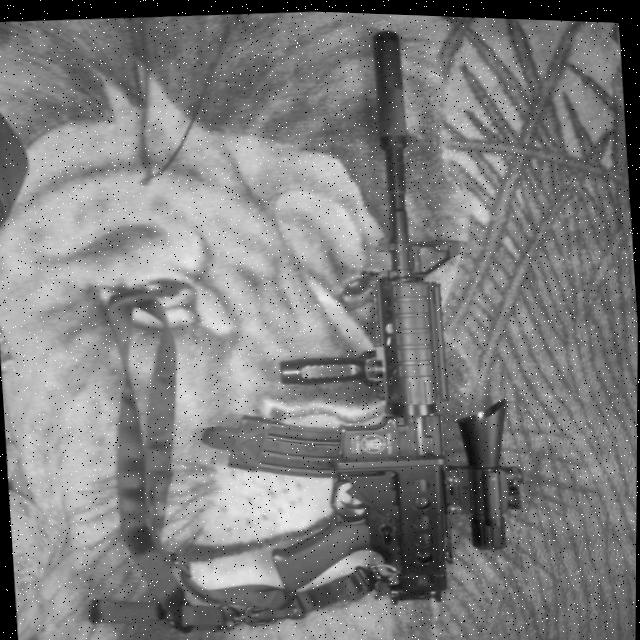firearm: (191, 13, 537, 611)
